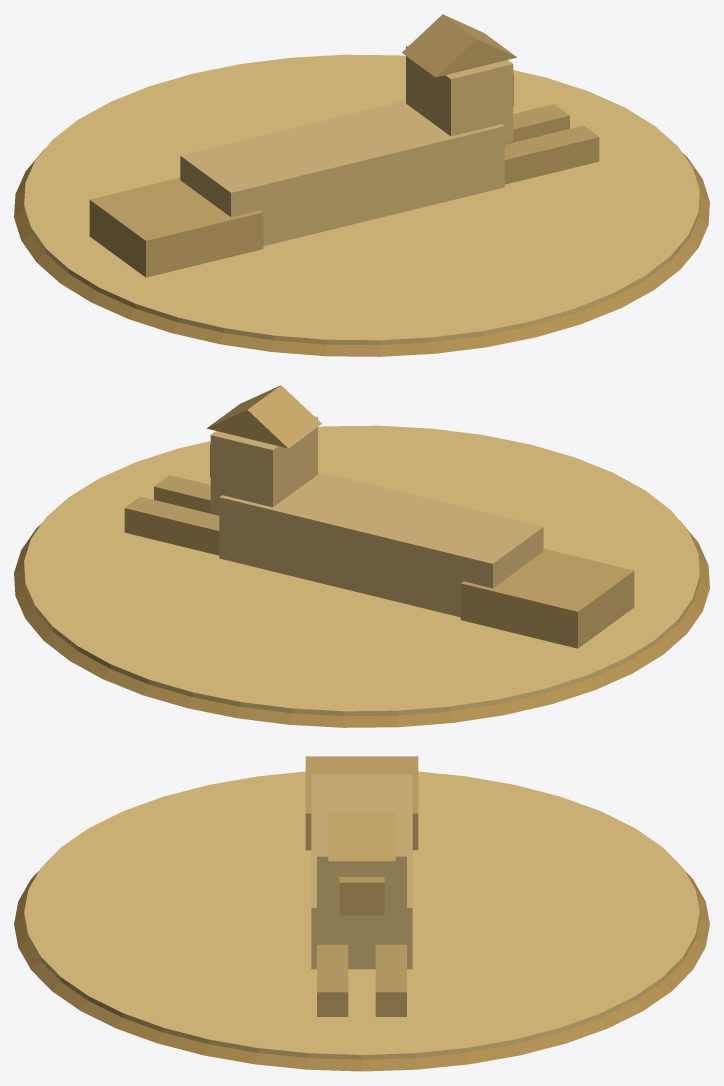
File: great-sphinx.glb
3 renders of one model, top to bottom at view 1: azimuth 30°, elevation 25°; view 2: azimuth 150°, elevation 25°; view 3: azimuth 270°, elevation 25°, orthographic.
Visible parts, largest first — view 1: great-sphinx; view 2: great-sphinx; view 3: great-sphinx.
Boxes of the visible parts, bbox=[...] form: great-sphinx: bbox=[14, 14, 709, 356]; great-sphinx: bbox=[14, 385, 709, 727]; great-sphinx: bbox=[14, 756, 709, 1071].
Bounding box in the file's own units: 3.96 × 1 × 3.96.
